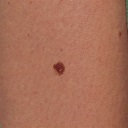Melanoma: (50, 60, 67, 79)
